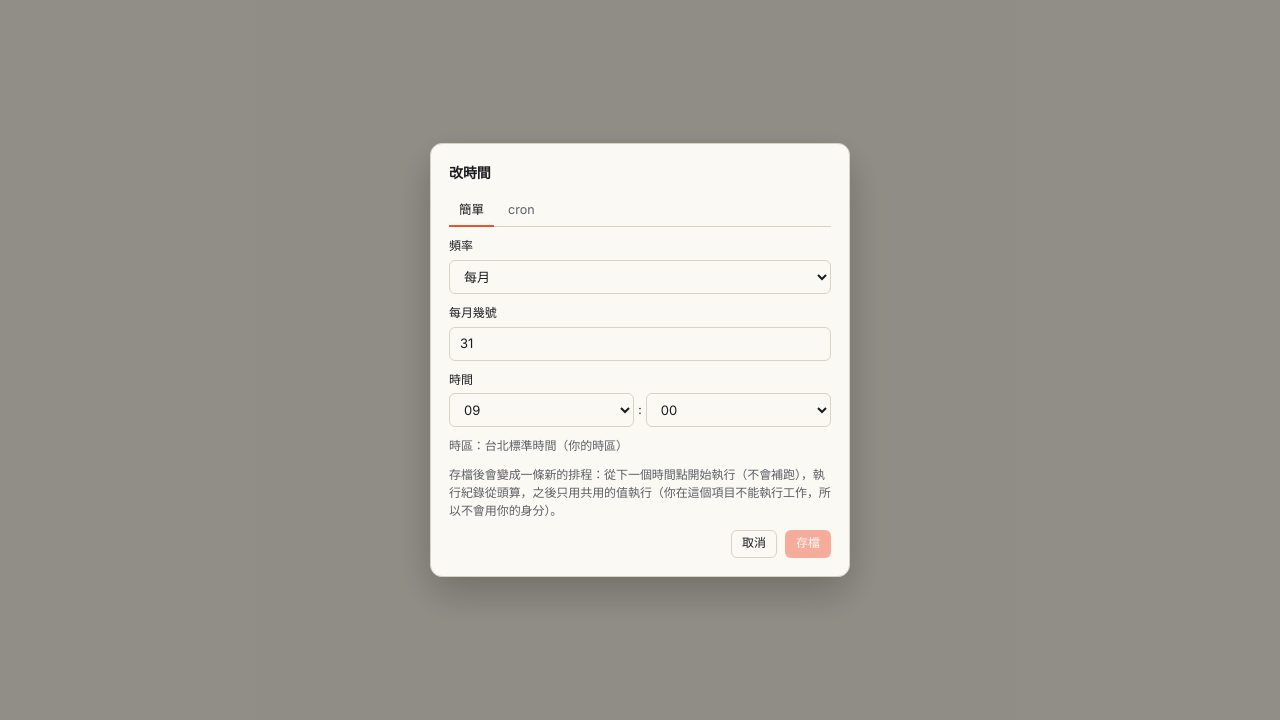
it: ScheduleTimeModal — 簡單 / cron (docs/plan-schedule-cron.md decision 4) › a month day the cron would skip in short months says so
Click the tab "cron".
click(521, 211)  # box left=498, top=194, right=544, bottom=227
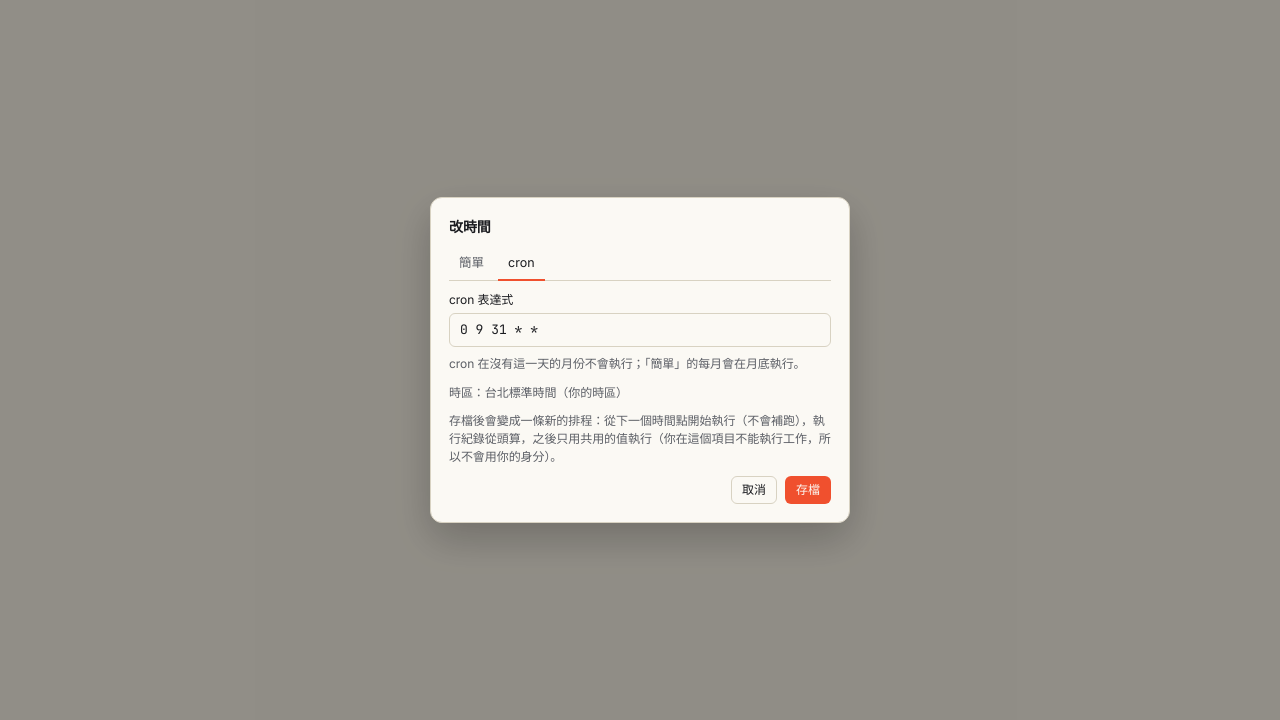
Result: the field labelled "cron 表達式" holds "0 9 31 * *" at left=449, top=313, right=831, bottom=347
Result: the text "cron 在沒有這一天的月份不會執行；「簡單」的每月會在月底執行。" is shown at left=449, top=355, right=831, bottom=374
